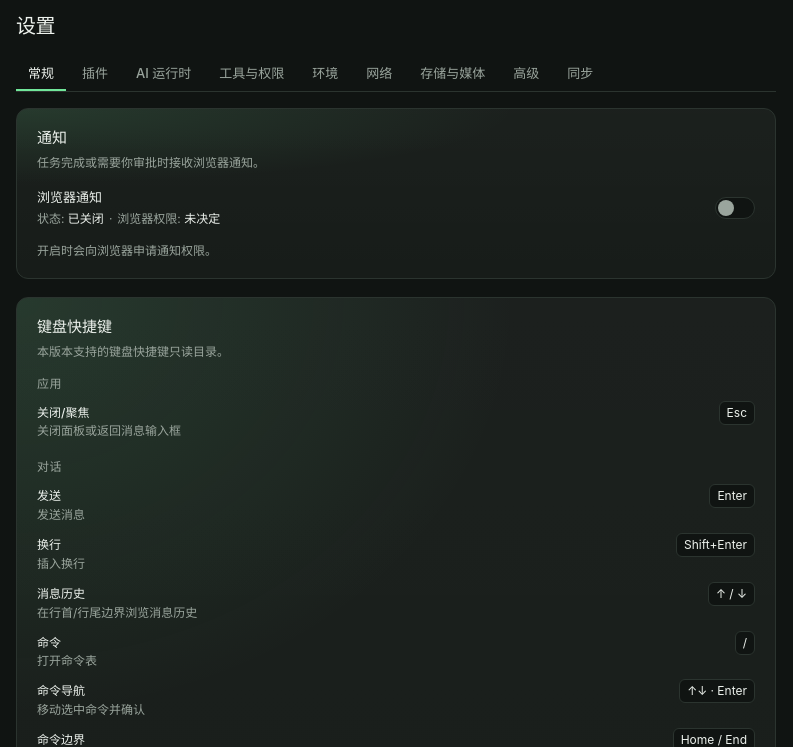
Test: SettingsPage general tab + notifications › does not fake-enable on a stale stored flag while permission is still default; clicking requests permission instead of turning the setting off
Expected: the text "未决定" is shown, [184,211,220,226]
Click the switch named "浏览器通知" at (735, 208), box [715,197,755,219]
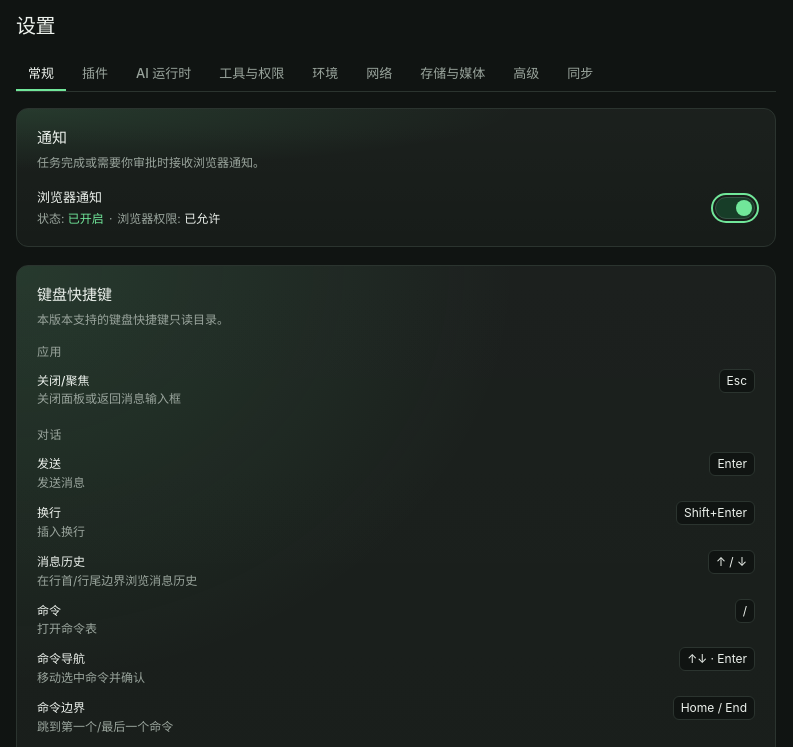
Now the text "已允许" is shown, box [184,211,220,226]
